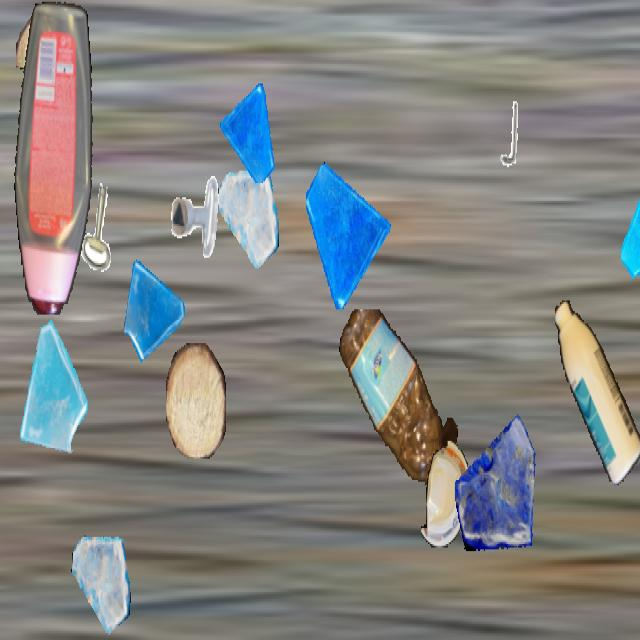glass: (455, 404, 541, 556), (306, 158, 390, 308), (9, 318, 89, 461), (121, 249, 187, 366), (218, 165, 278, 272), (71, 532, 131, 638), (220, 82, 276, 181), (621, 182, 640, 284)
metal: (73, 178, 129, 277), (170, 172, 222, 265), (488, 98, 528, 169)
plastic: (13, 2, 97, 314), (336, 310, 460, 483), (555, 300, 640, 486), (421, 441, 471, 547)
wood: (166, 343, 226, 457), (16, 16, 90, 73)
